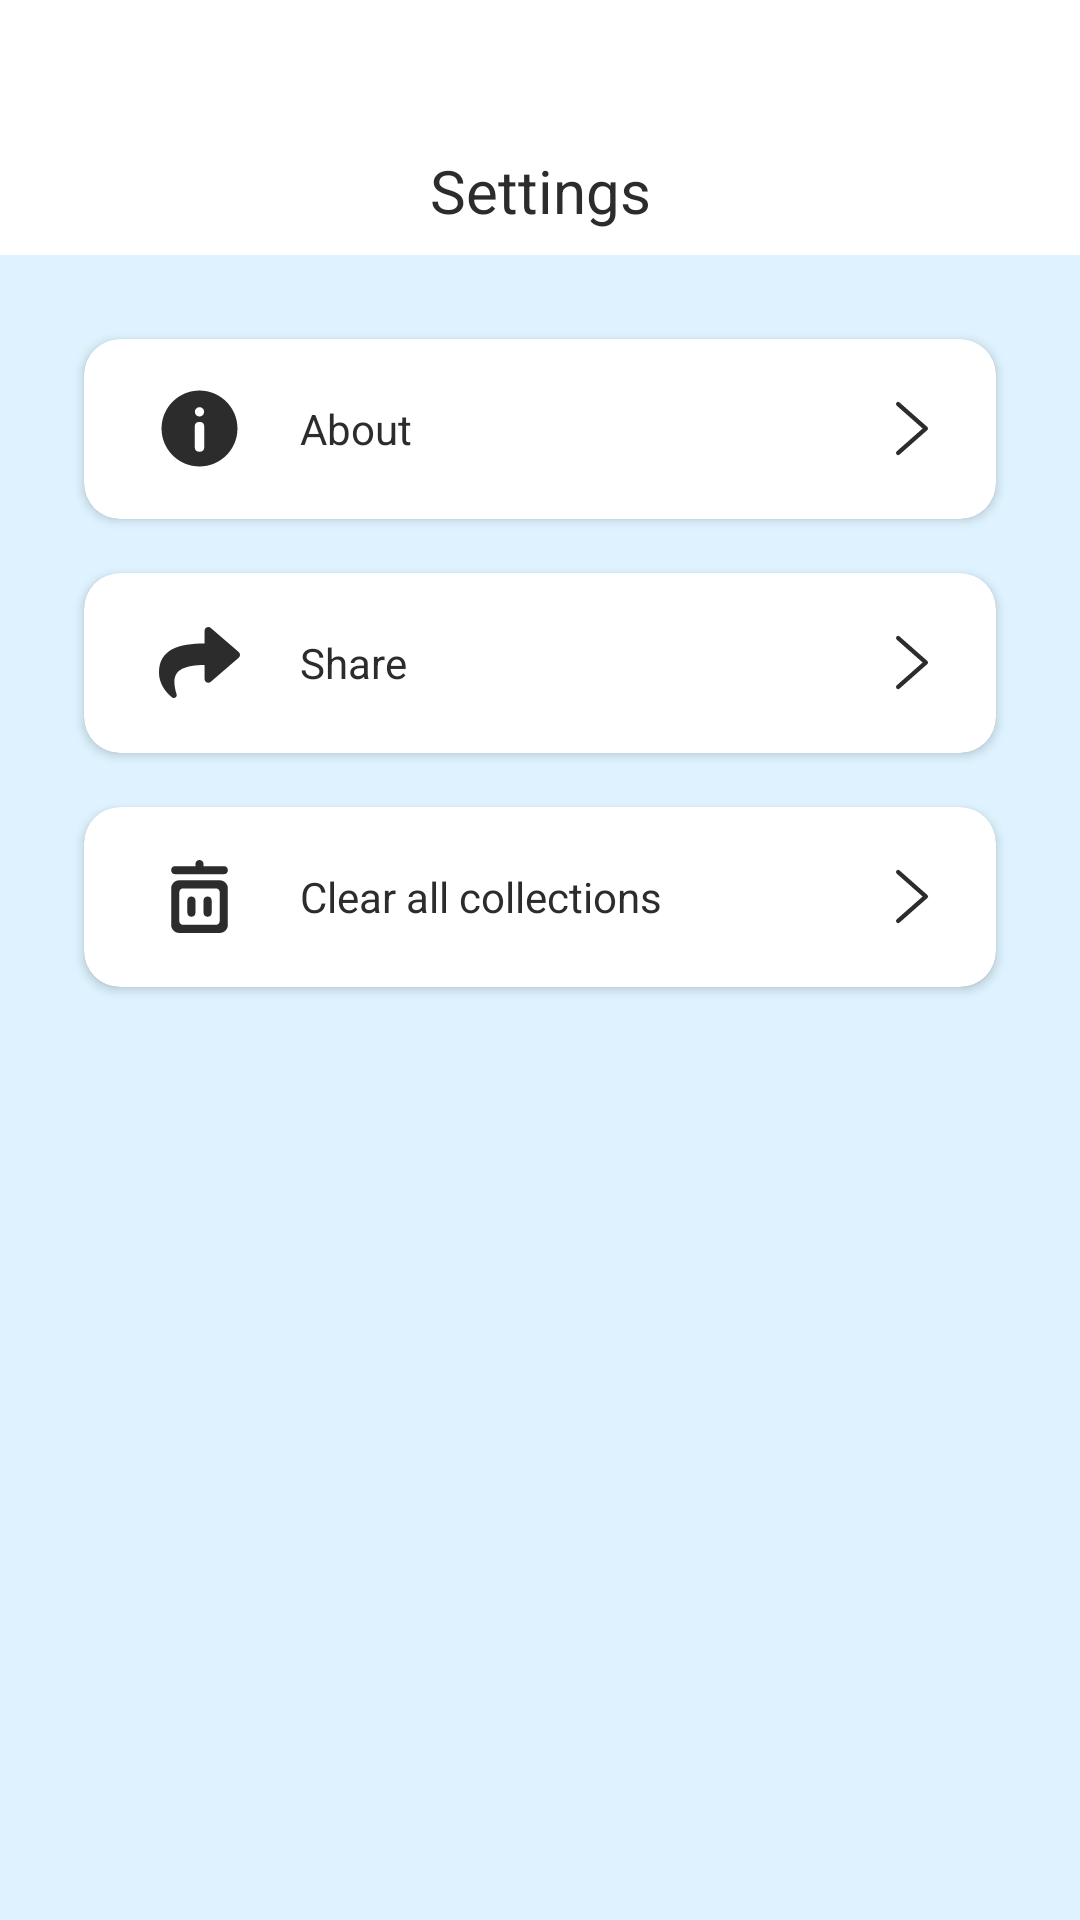

Icon click points for this 1080 × 1920 phone screenshot, format (x=x, y=y):
delete: (x=199, y=896)
